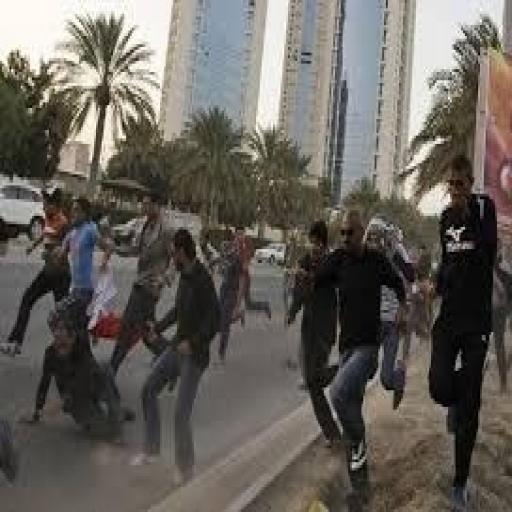running: (296, 205, 412, 476), (424, 150, 502, 510), (130, 224, 226, 484)
